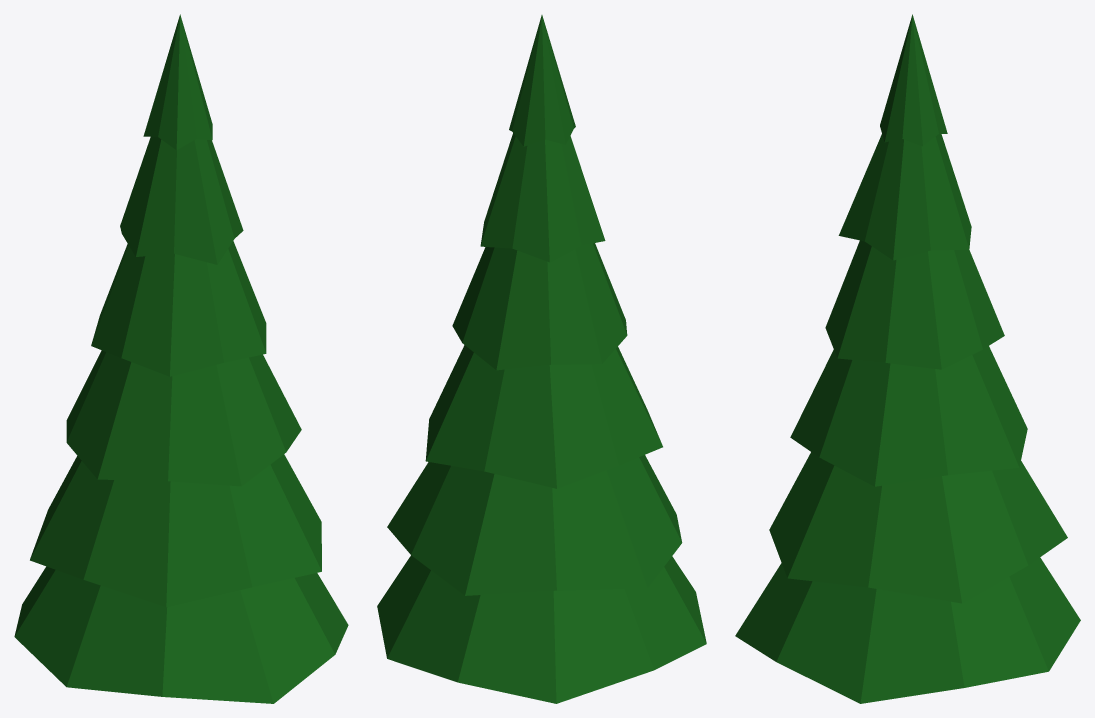
File: tree_pine.fbx
3 views of the same model, side by side, from view 1: azimuth 30°, elevation 25°; view 2: azimuth 150°, elevation 25°; view 3: azimuth 270°, elevation 25° (orthographic).
Visible parts, largest first — view 1: Cylinder; view 2: Cylinder; view 3: Cylinder.
Boxes of the visible parts, x1,y1,x2,y2 form: Cylinder: [14, 14, 348, 703]; Cylinder: [377, 15, 706, 703]; Cylinder: [735, 14, 1080, 703].
Size of the model in its own units: 286 by 640 by 306.
